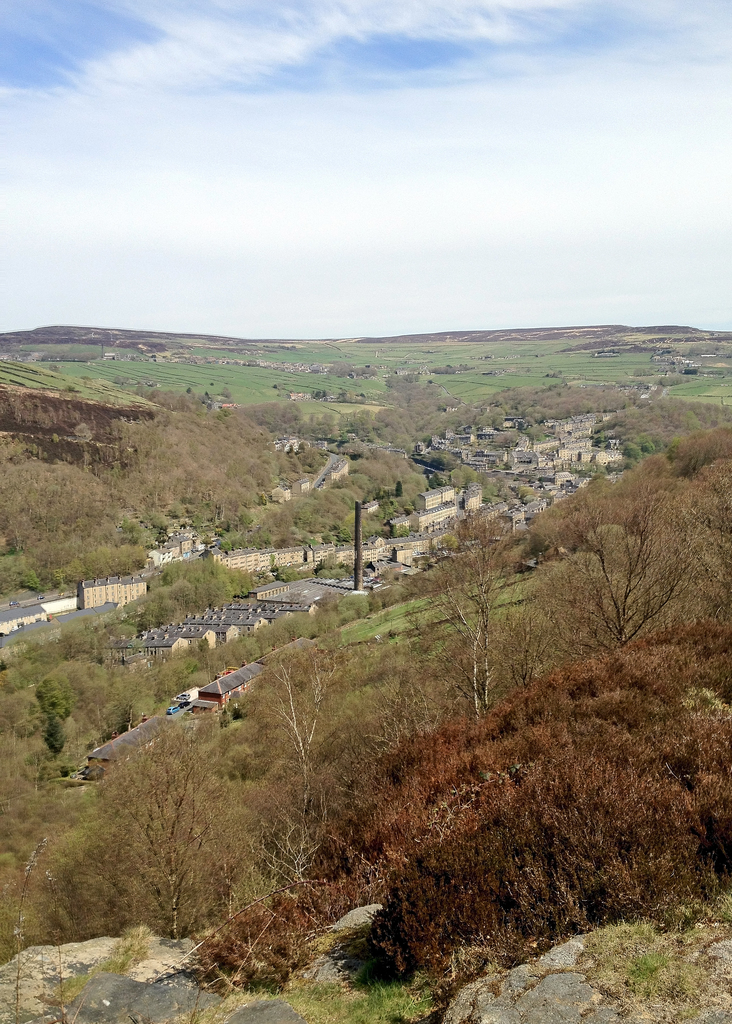Tree: (0, 399, 731, 940)
